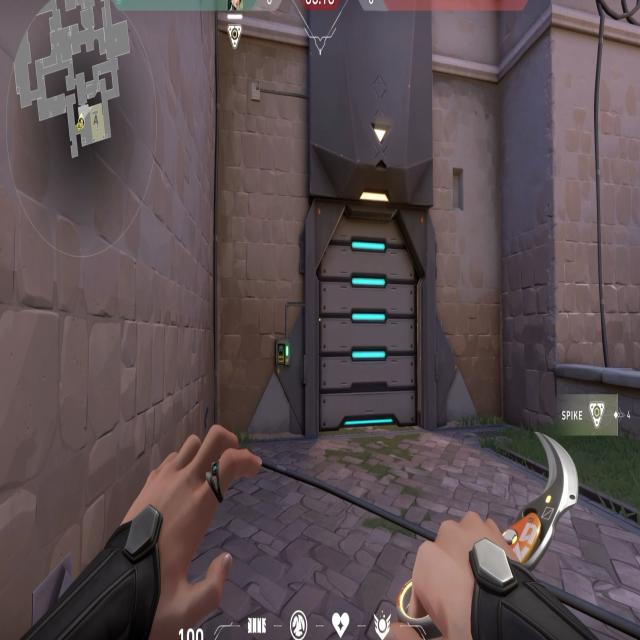A_Door: (307, 160, 440, 438)
